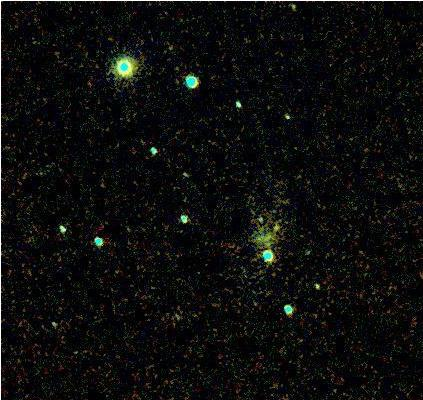star: (261, 212, 291, 242)
